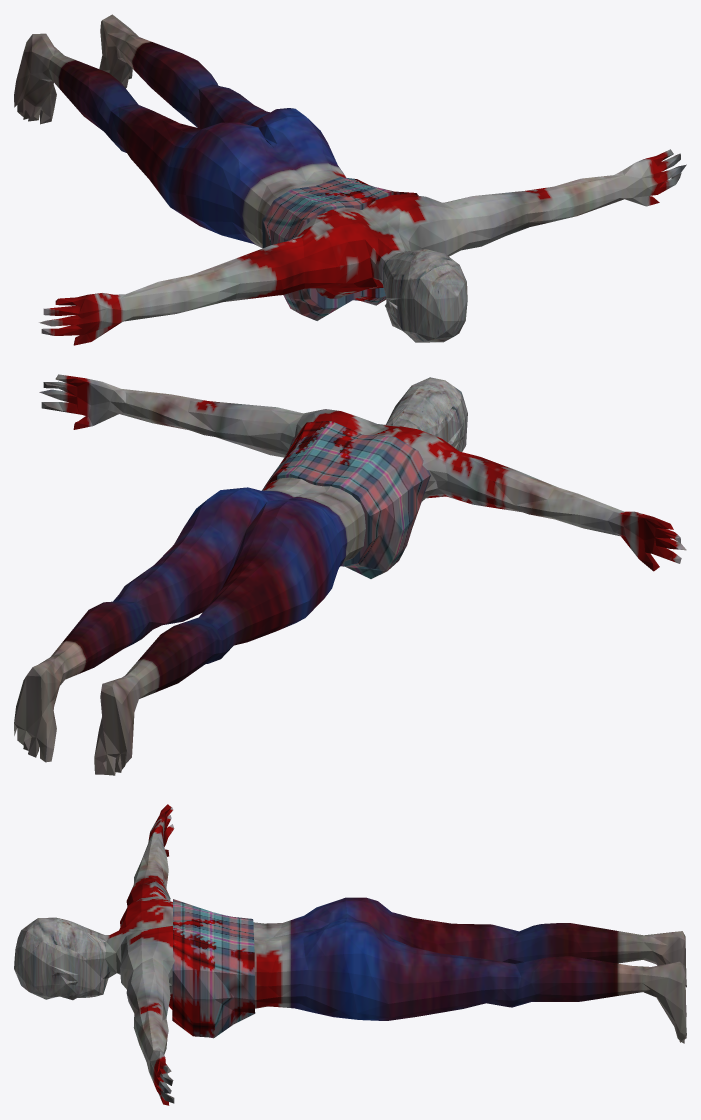
Rendered from zombiechick_wtf.obj.
The picture shows the model from 3 angles, top to bottom: view 1: azimuth 30°, elevation 25°; view 2: azimuth 150°, elevation 25°; view 3: azimuth 270°, elevation 25°; orthographic projection. The views are drawn at different scales.
Parts seen in each view (by area): view 1: group4, group1, group3, group2; view 2: group4, group3, group1; view 3: group4, group3, group1, group2.
Boxes of the visible parts, x1,y1,x2,y2 form: group4: (14, 14, 686, 345); group1: (382, 249, 467, 342); group3: (262, 177, 418, 320); group2: (385, 254, 416, 342); group4: (14, 374, 686, 775); group3: (262, 421, 430, 578); group1: (386, 377, 467, 450); group4: (102, 804, 686, 1105); group3: (172, 899, 255, 1038); group1: (14, 917, 110, 996); group2: (29, 928, 108, 1000).
Size of the model in its own units: 647 by 126 by 660.
